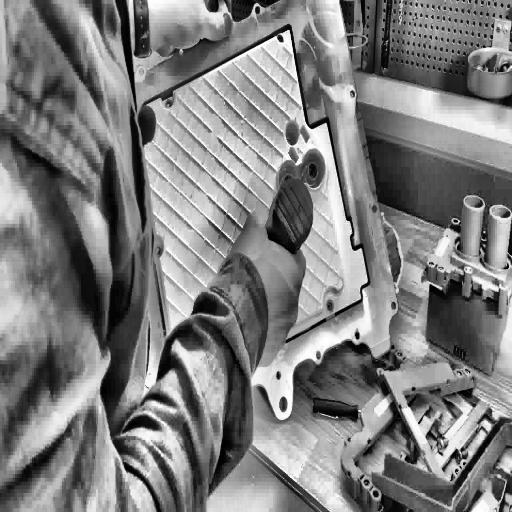bms_unit: (118, 0, 394, 389)
connector: (420, 191, 512, 379)
